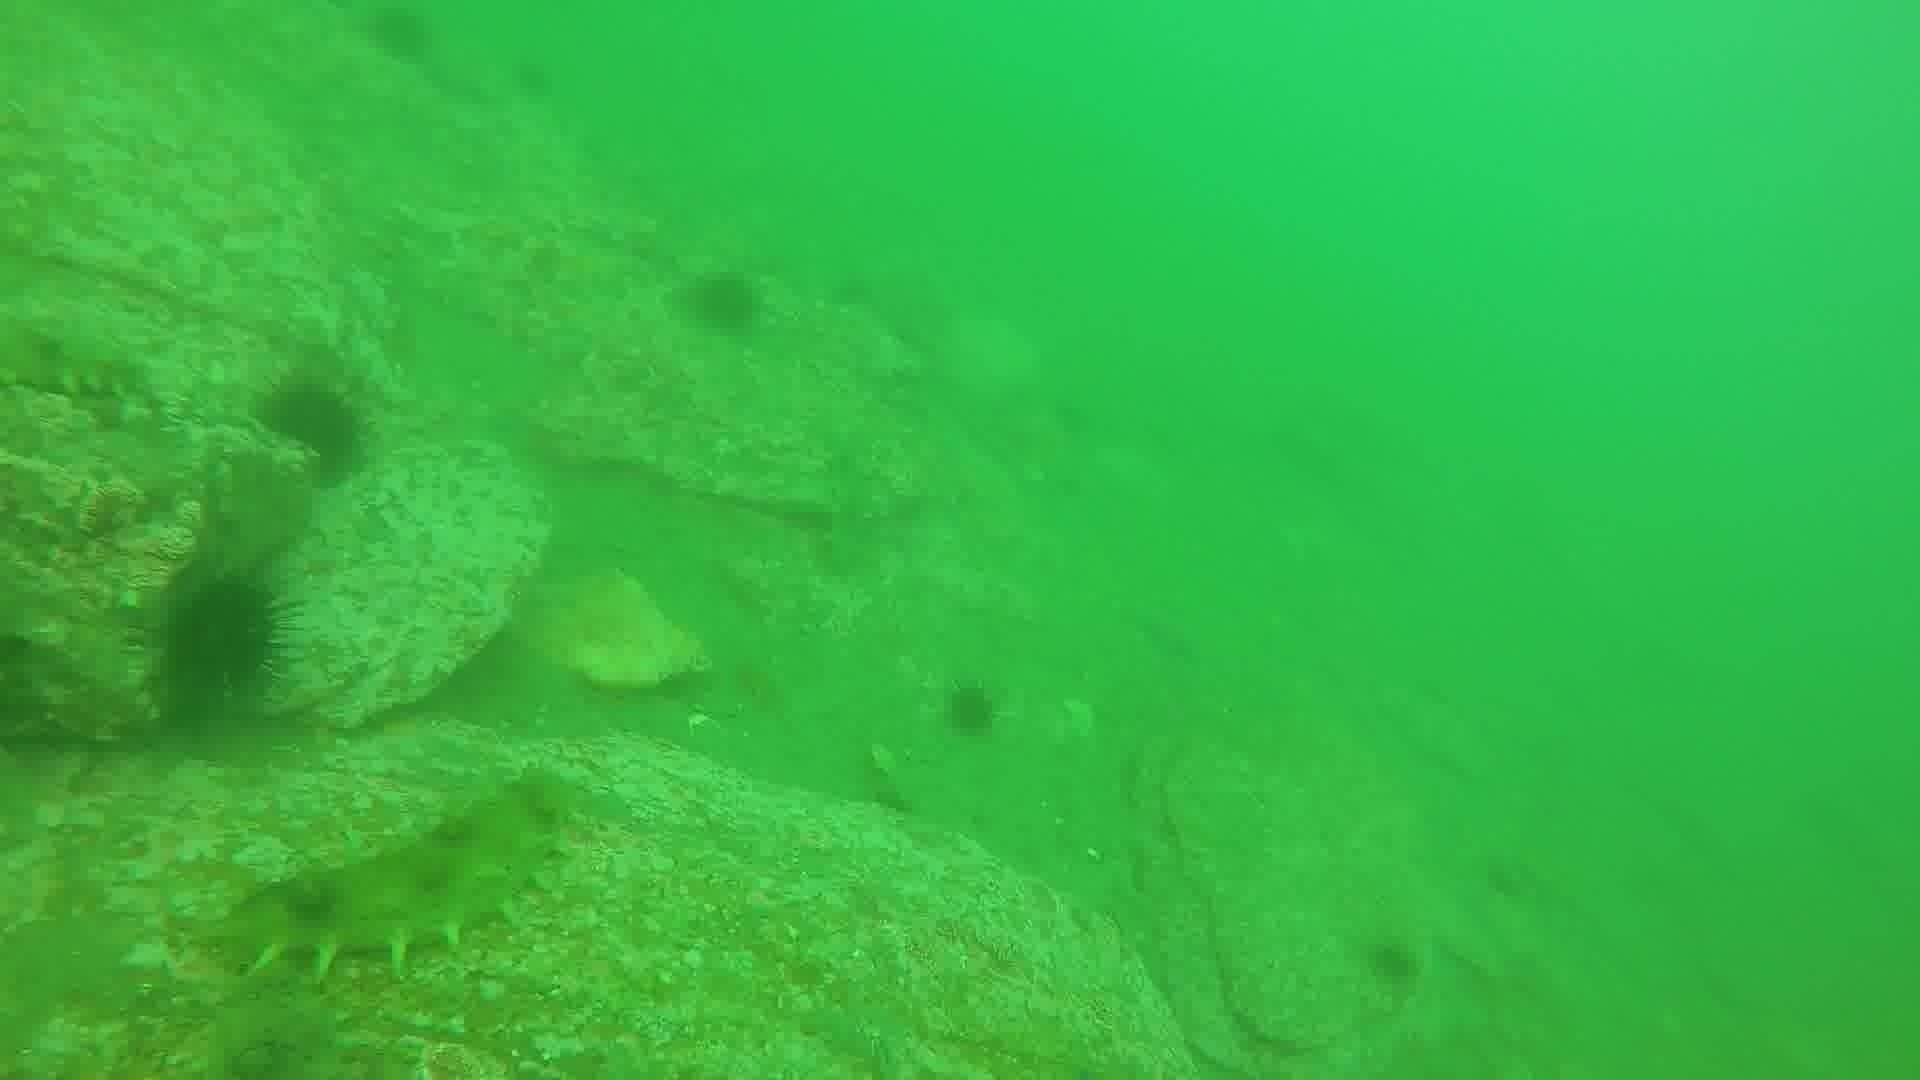echinus: (154, 567, 297, 707), (255, 373, 373, 480), (684, 265, 767, 338), (360, 5, 438, 66), (938, 676, 1005, 741), (1360, 934, 1425, 992)
holothurian: (211, 766, 587, 982), (0, 318, 161, 410)
